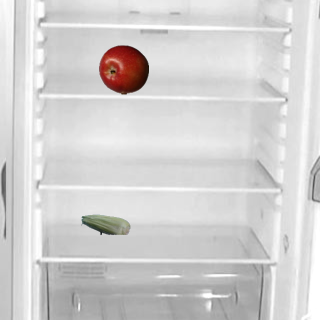Apple Braeburn: (98, 44, 148, 94)
Corn Husk: (80, 199, 130, 249)
